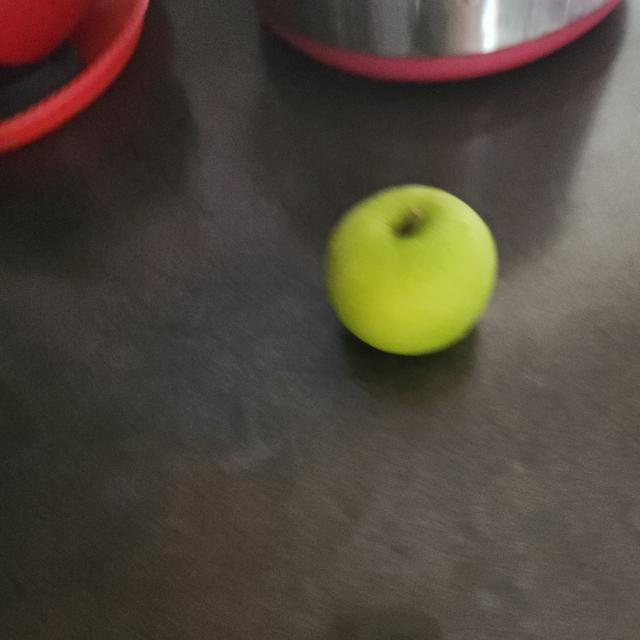apple: (314, 173, 514, 372)
